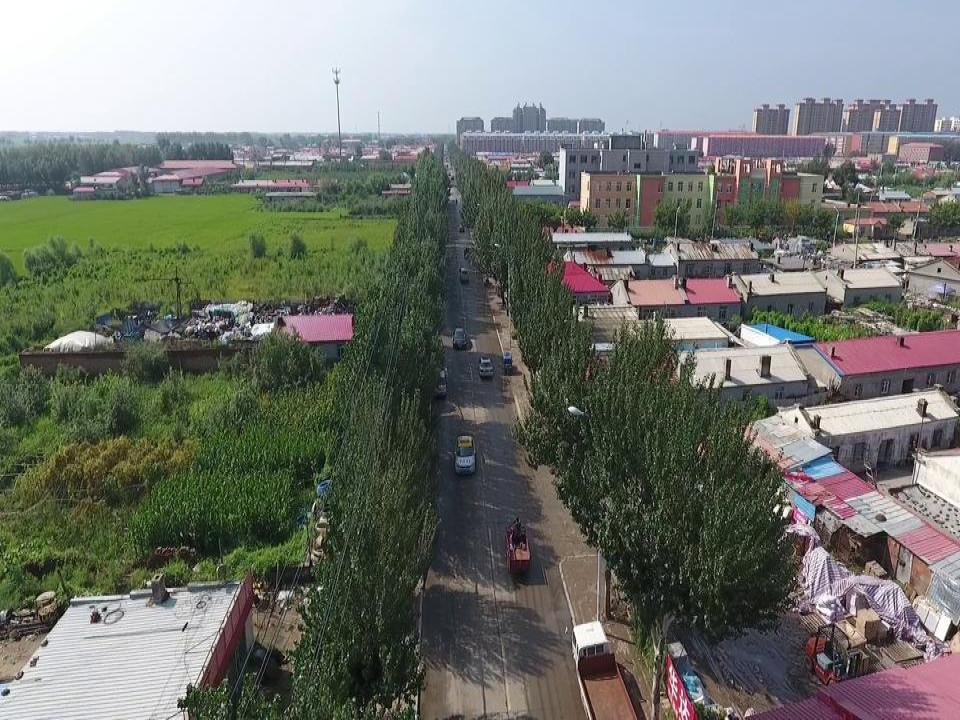car: (453, 434, 476, 474), (452, 326, 467, 350), (477, 356, 494, 377)
truck: (564, 620, 639, 720)
van: (432, 366, 447, 398), (459, 266, 470, 282)
